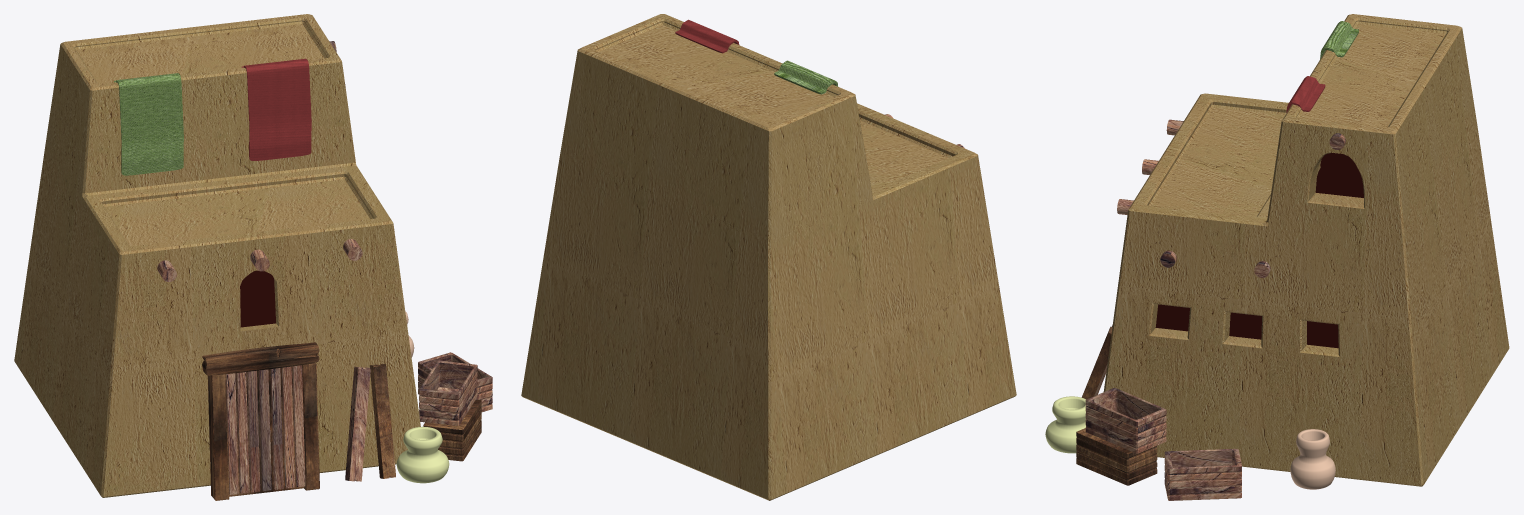
File: Casinha1.fbx
The picture shows the model from 3 angles, left to right: view 1: azimuth 30°, elevation 25°; view 2: azimuth 150°, elevation 25°; view 3: azimuth 270°, elevation 25°; orthographic projection. The views are drawn at different scales.
Parts seen in each view (by area): view 1: Cube.025, Cube.028, Plane.005, Plane.006, Cube.026, Cube.032, Cube.027, Cylinder.008, Cube.030, Cube.029, Cube.031, Cube.033 (+1 smaller); view 2: Cube.025, Plane.005, Plane.006; view 3: Cube.025, Cube.032, Cube.033, Cube.031, Cylinder.009, Cylinder.008, Cylinder.004, Plane.005, Plane.006, Cube.029.
Part boxes in pixels (x1,y1,x2,y2): Cube.025: [14, 14, 420, 497]; Cube.028: [226, 365, 305, 494]; Plane.005: [114, 73, 183, 175]; Plane.006: [241, 58, 311, 160]; Cube.026: [207, 362, 319, 500]; Cube.032: [419, 360, 477, 425]; Cube.027: [202, 342, 319, 375]; Cylinder.008: [396, 426, 449, 483]; Cube.030: [345, 366, 370, 481]; Cube.029: [369, 363, 395, 478]; Cube.031: [423, 399, 481, 461]; Cube.033: [418, 352, 492, 412]; Cube.025: [521, 14, 1016, 500]; Plane.005: [774, 60, 837, 94]; Plane.006: [675, 19, 739, 53]; Cube.025: [1103, 14, 1509, 486]; Cube.032: [1085, 388, 1166, 453]; Cube.033: [1164, 448, 1241, 500]; Cube.031: [1076, 428, 1157, 485]; Cylinder.009: [1290, 429, 1335, 489]; Cylinder.008: [1045, 396, 1085, 453]; Cylinder.004: [1117, 119, 1345, 278]; Plane.005: [1320, 21, 1358, 59]; Plane.006: [1286, 76, 1325, 112]; Cube.029: [1081, 326, 1112, 399].
Size of the model in its own units: 683 by 587 by 708.
8 materials, 5 textured.
